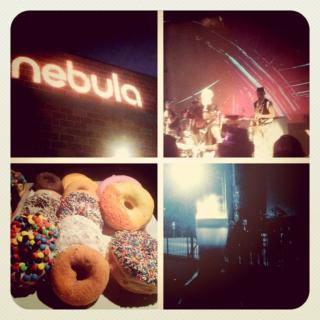Doughnut: (11, 172, 158, 308), (41, 242, 110, 310)
